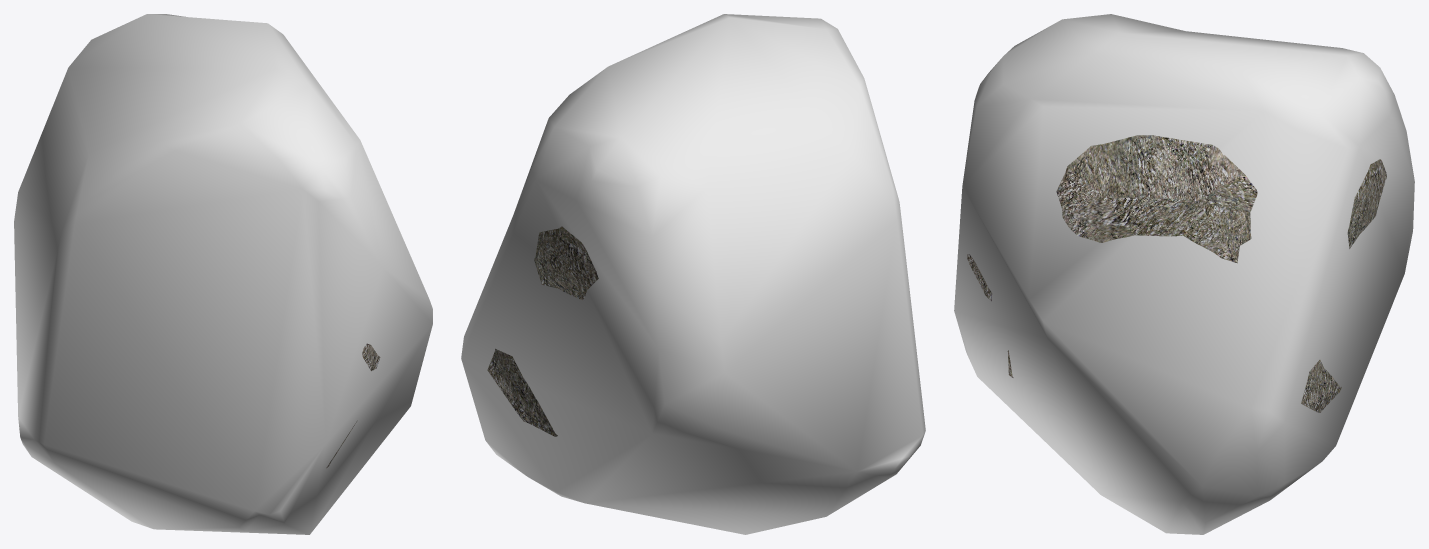
File: boulder_2.dae
3 views of the same model, side by side, from view 1: azimuth 30°, elevation 25°; view 2: azimuth 150°, elevation 25°; view 3: azimuth 270°, elevation 25° (orthographic). The views are drawn at different scales.
Visible parts, largest first — view 1: volume; view 2: volume, boulder; view 3: volume, boulder.
Part boxes in pixels (<box>): volume: <box>14,14,432,534</box>; volume: <box>461,14,925,534</box>; boulder: <box>487,226,598,436</box>; volume: <box>954,14,1414,534</box>; boulder: <box>967,135,1386,412</box>.
Size of the model in its own units: 2.02 by 2.07 by 2.32.
Materials: 1 (1 with a texture image).
